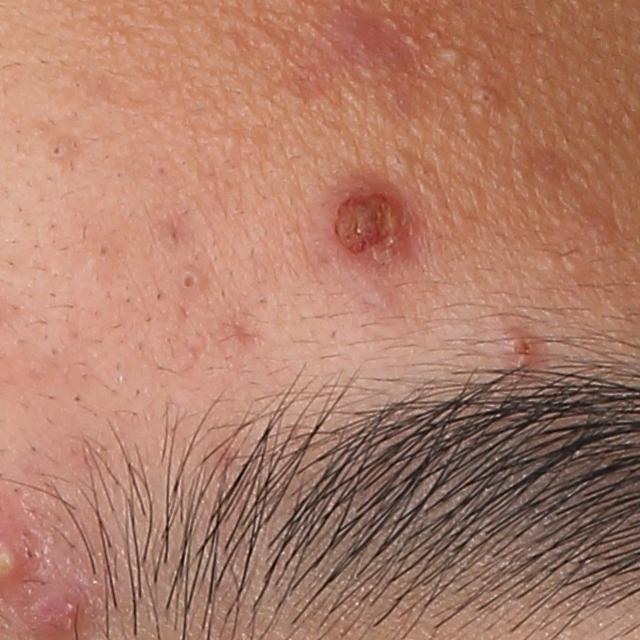comedo: (171, 266, 207, 301), (472, 86, 502, 111), (439, 44, 467, 69), (93, 237, 116, 265), (45, 138, 70, 163)
papule: (325, 182, 412, 267), (500, 322, 544, 383)
